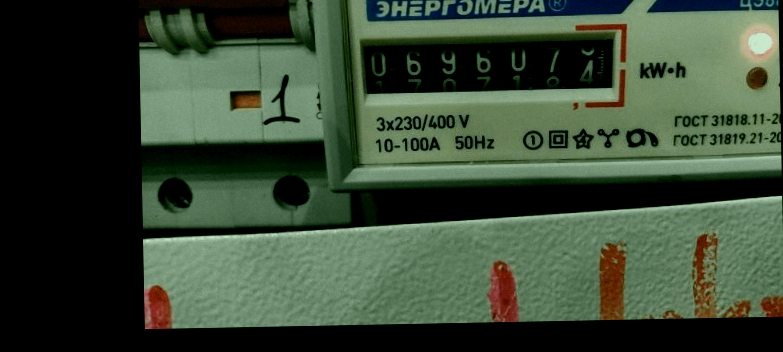0: (368, 48, 389, 78), (509, 42, 529, 72)
4: (576, 57, 596, 85)
6: (402, 46, 425, 77), (474, 45, 494, 73)
7: (544, 42, 562, 73)
9: (439, 46, 458, 76)
screen: (344, 16, 630, 112)
